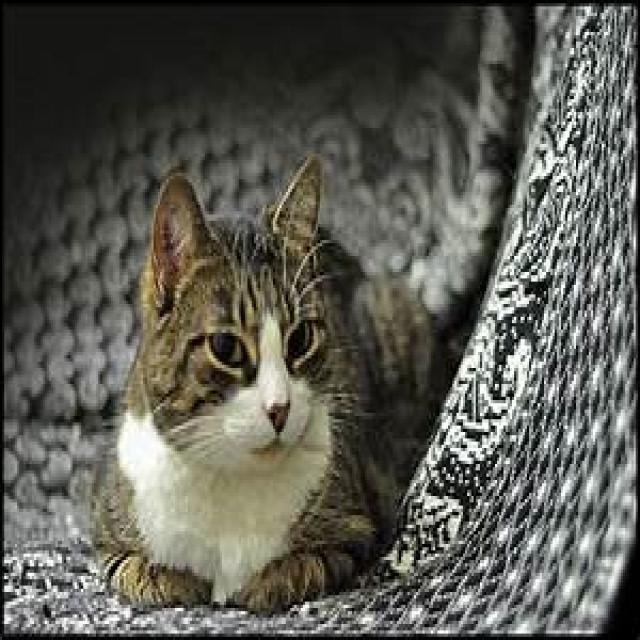animal: (93, 148, 470, 614)
